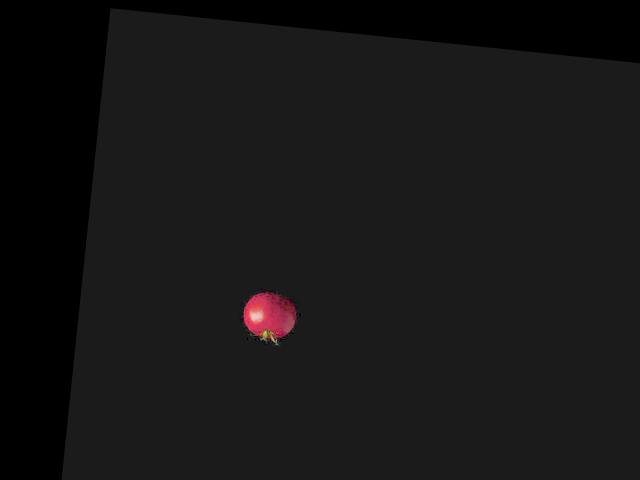tomato: (242, 291, 298, 340)
